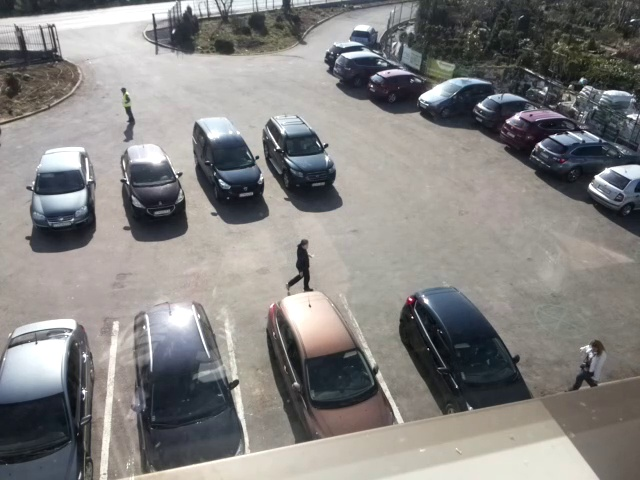car: (135, 299, 243, 474), (268, 292, 392, 440), (398, 288, 531, 414), (1, 320, 94, 479), (192, 117, 264, 201), (263, 115, 337, 191), (31, 146, 94, 231), (531, 133, 640, 178), (122, 145, 185, 220), (502, 111, 594, 151), (417, 76, 498, 116), (472, 93, 557, 130), (585, 167, 640, 214), (370, 68, 440, 102), (333, 53, 405, 86), (324, 40, 379, 69), (350, 25, 377, 47)
